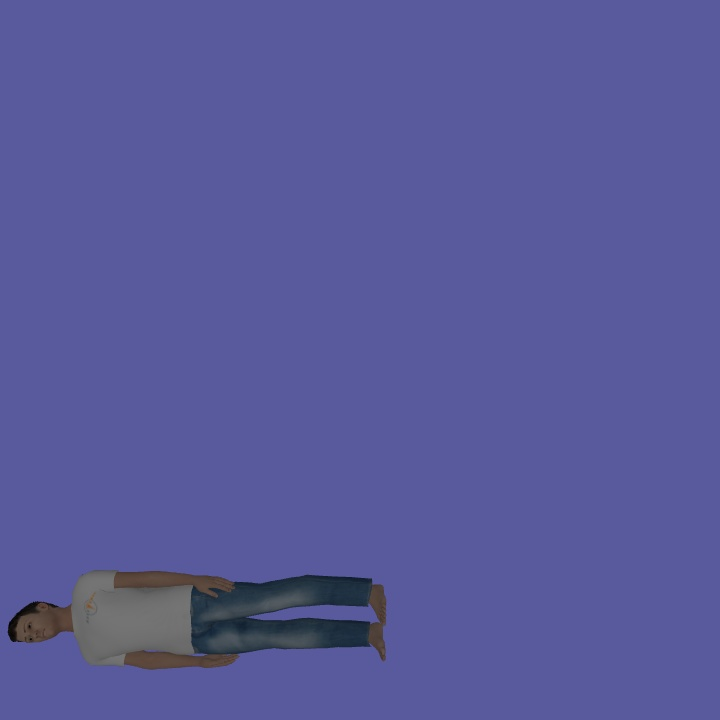victim: (5, 563, 389, 669)
